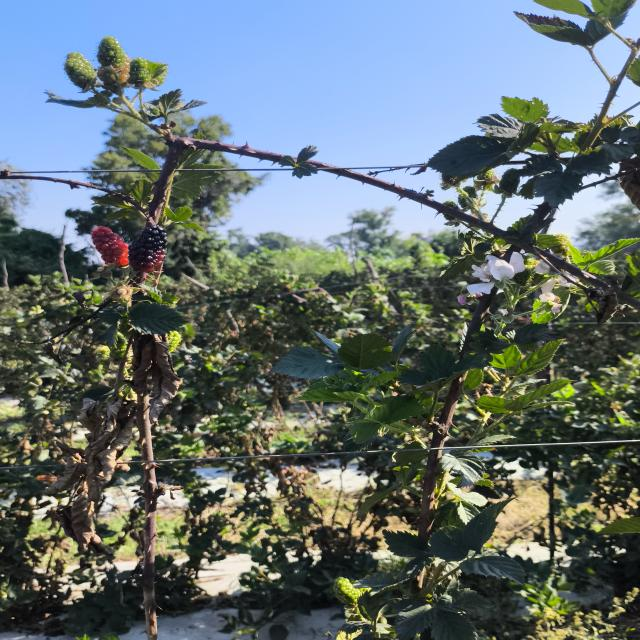flor: (488, 254, 524, 281)
marron: (128, 225, 166, 272)
naranja: (92, 226, 129, 266)
